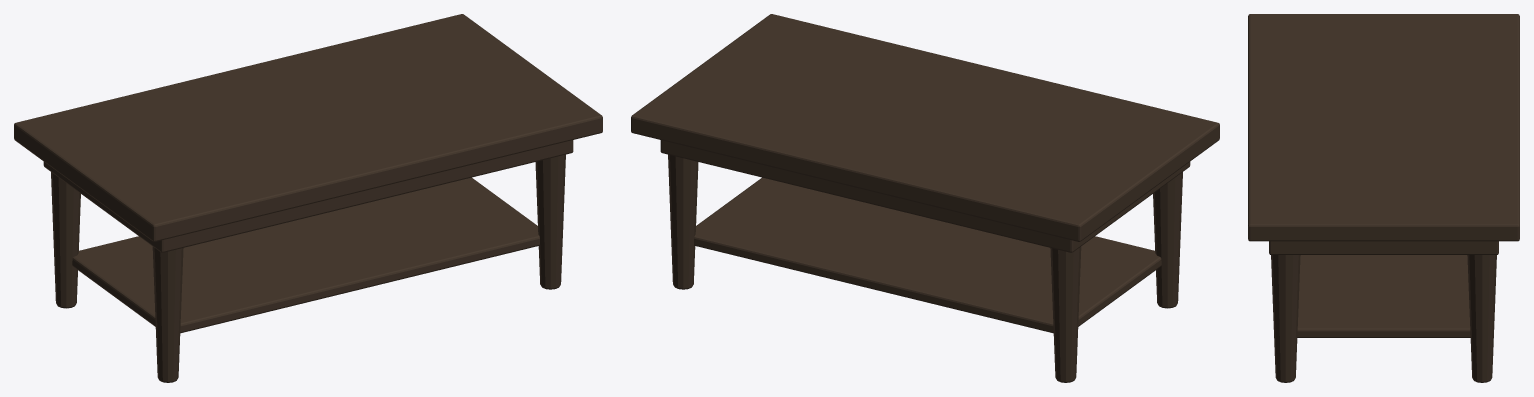
Rendered from SM_Furniture_CoffeeTable_01.glb.
The picture shows the model from 3 angles, left to right: view 1: azimuth 30°, elevation 25°; view 2: azimuth 150°, elevation 25°; view 3: azimuth 270°, elevation 25°; orthographic projection. The views are drawn at different scales.
Parts seen in each view (by area): view 1: SM_Furniture_CoffeeTable_01; view 2: SM_Furniture_CoffeeTable_01; view 3: SM_Furniture_CoffeeTable_01.
Boxes of the visible parts, x1=… form: SM_Furniture_CoffeeTable_01: x1=14, y1=14, x2=602, y2=382; SM_Furniture_CoffeeTable_01: x1=631, y1=14, x2=1219, y2=382; SM_Furniture_CoffeeTable_01: x1=1248, y1=14, x2=1519, y2=382.
Bounding box in the file's own units: 1.2 × 0.4495 × 0.65.
